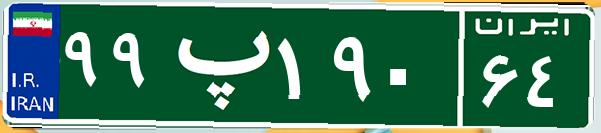0: (385, 28, 445, 110)
1: (273, 28, 330, 110)
4: (525, 38, 570, 115)
6: (475, 38, 525, 113)
9: (330, 28, 385, 110), (57, 26, 110, 107), (110, 28, 158, 105)
پ: (158, 15, 273, 115)
